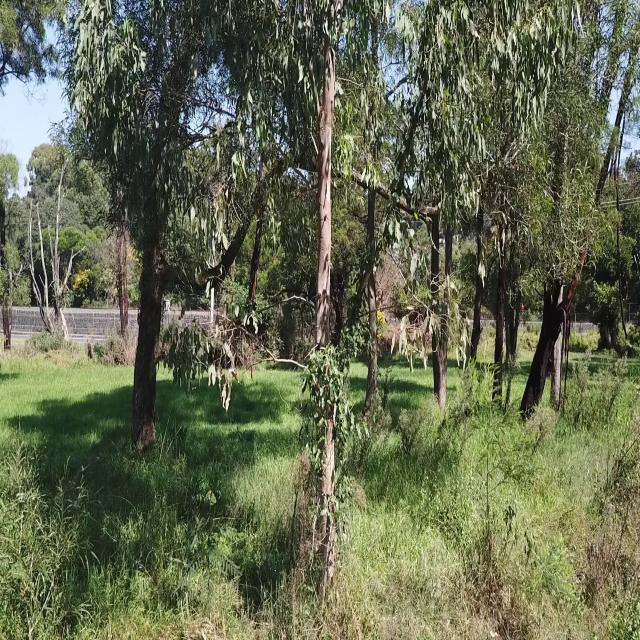Mysore-Thorn-Weed: (196, 516, 247, 580)
